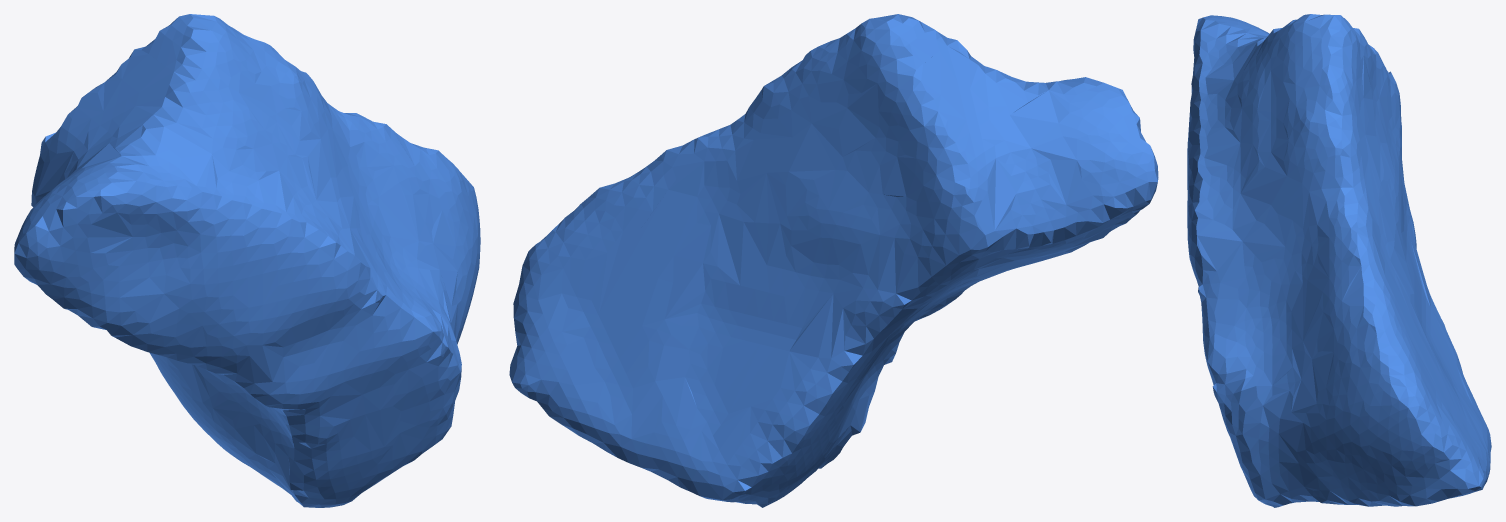
The model's file is Model_74_RH__Area_47_(old_12)_of_cortex__medial_part_(A47M).obj.
3 renders of one model, left to right at view 1: azimuth 30°, elevation 25°; view 2: azimuth 150°, elevation 25°; view 3: azimuth 270°, elevation 25°, orthographic. The views are drawn at different scales.
Size of the model in its own units: 3.7 by 3.18 by 1.99.
